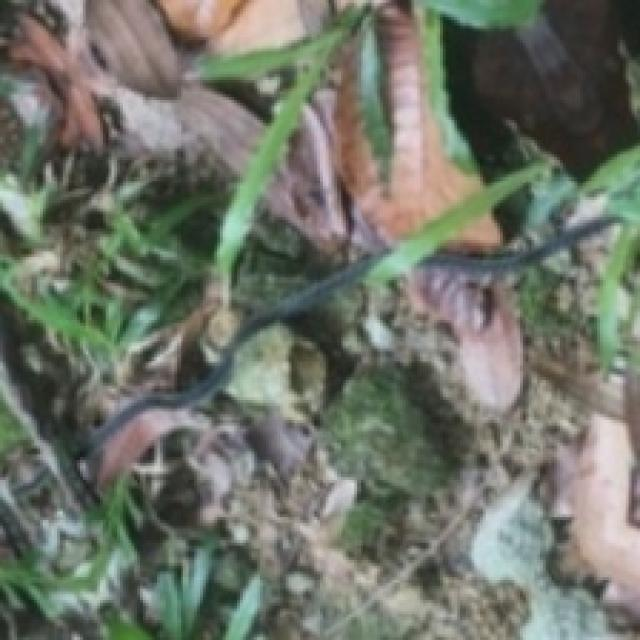king cobra: (91, 0, 634, 474)
